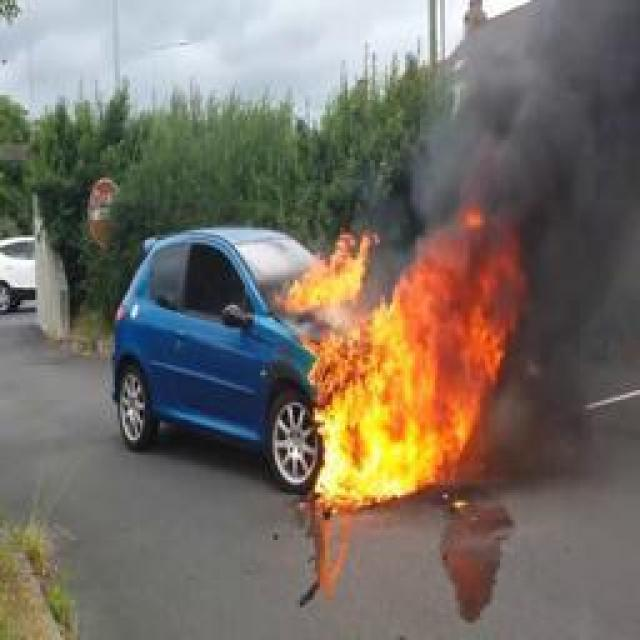Fire: (300, 205, 528, 505), (272, 232, 372, 316)
